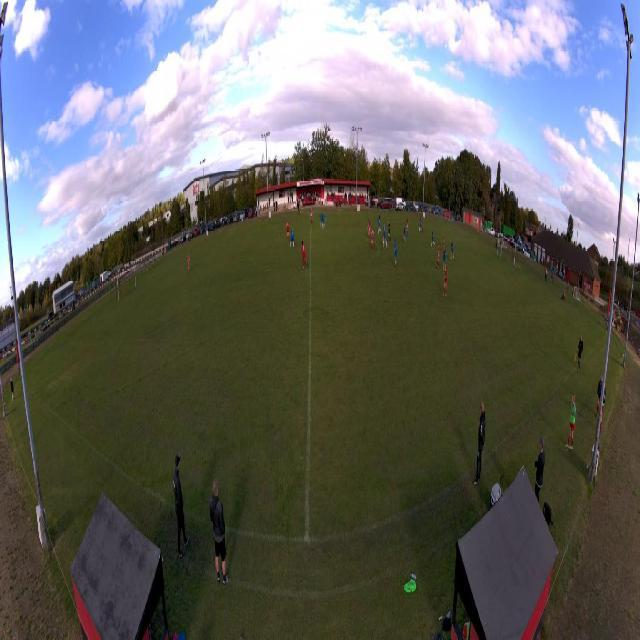ball: (344, 153, 346, 157)
player: (300, 239, 309, 269), (370, 225, 376, 251), (383, 223, 388, 249), (443, 265, 447, 296), (286, 219, 291, 243), (394, 239, 398, 268), (450, 240, 455, 262), (436, 242, 440, 269), (431, 228, 436, 248), (291, 228, 295, 249), (388, 220, 392, 241), (367, 219, 371, 239), (442, 232, 446, 252), (322, 212, 326, 231), (378, 215, 382, 234), (443, 245, 446, 269), (319, 211, 323, 228), (310, 208, 314, 225), (187, 252, 190, 272), (404, 224, 407, 244), (406, 218, 409, 236), (500, 245, 503, 263), (419, 216, 422, 233), (421, 218, 423, 233)
